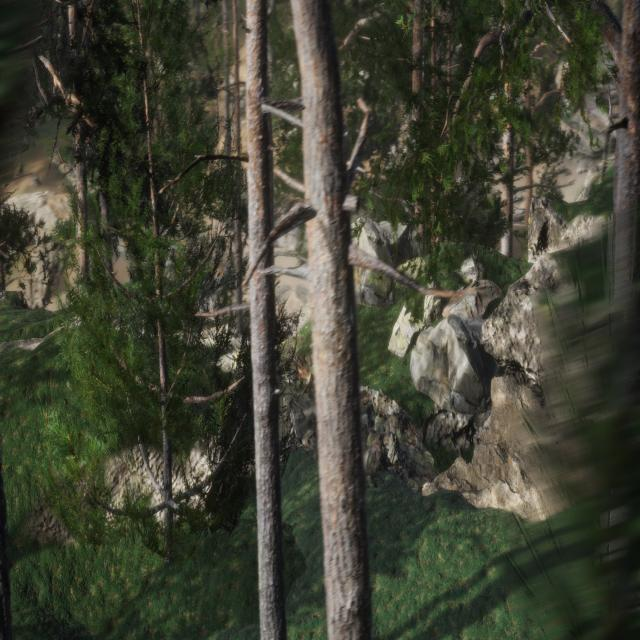Human: (422, 301, 443, 331)
